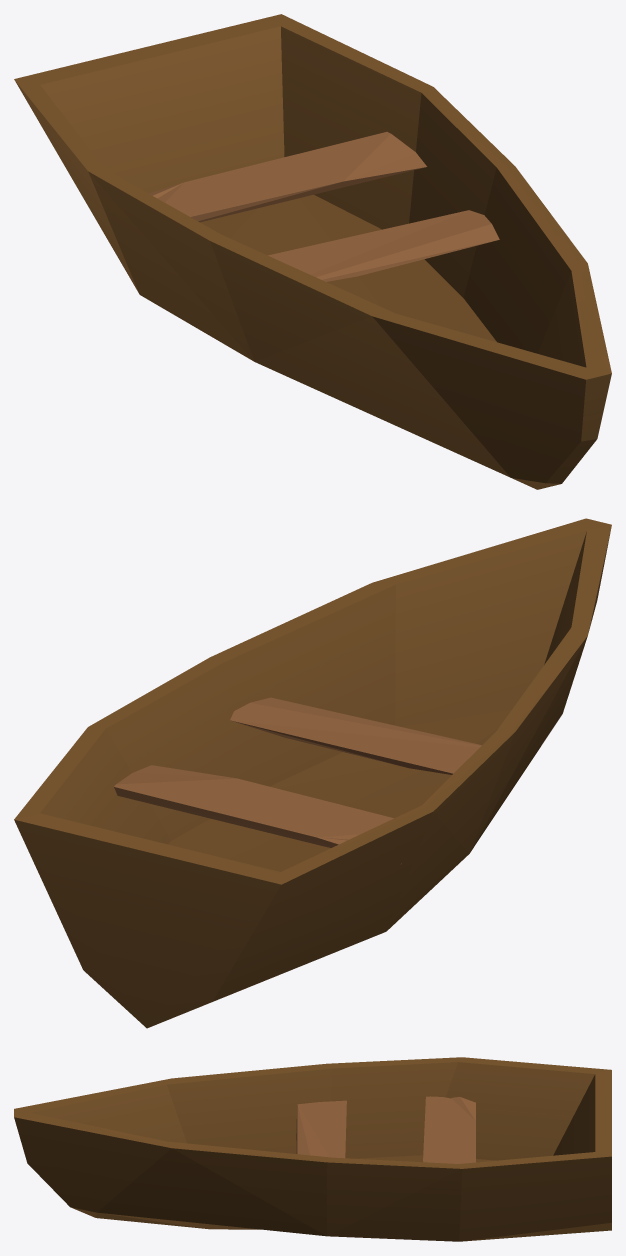
The model's file is Boat.fbx.
The picture shows the model from 3 angles, top to bottom: view 1: azimuth 30°, elevation 25°; view 2: azimuth 150°, elevation 25°; view 3: azimuth 270°, elevation 25°; orthographic projection. The views are drawn at different scales.
Parts seen in each view (by area): view 1: Boat; view 2: Boat; view 3: Boat.
Part boxes in pixels (x1,y1,x2,y2): Boat: (14,14,611,489); Boat: (14,518,611,1028); Boat: (14,1057,611,1241).
Size of the model in its own units: 130 by 63.59 by 294.
